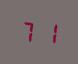one: (38, 19, 56, 44)
seven: (19, 18, 37, 43)
